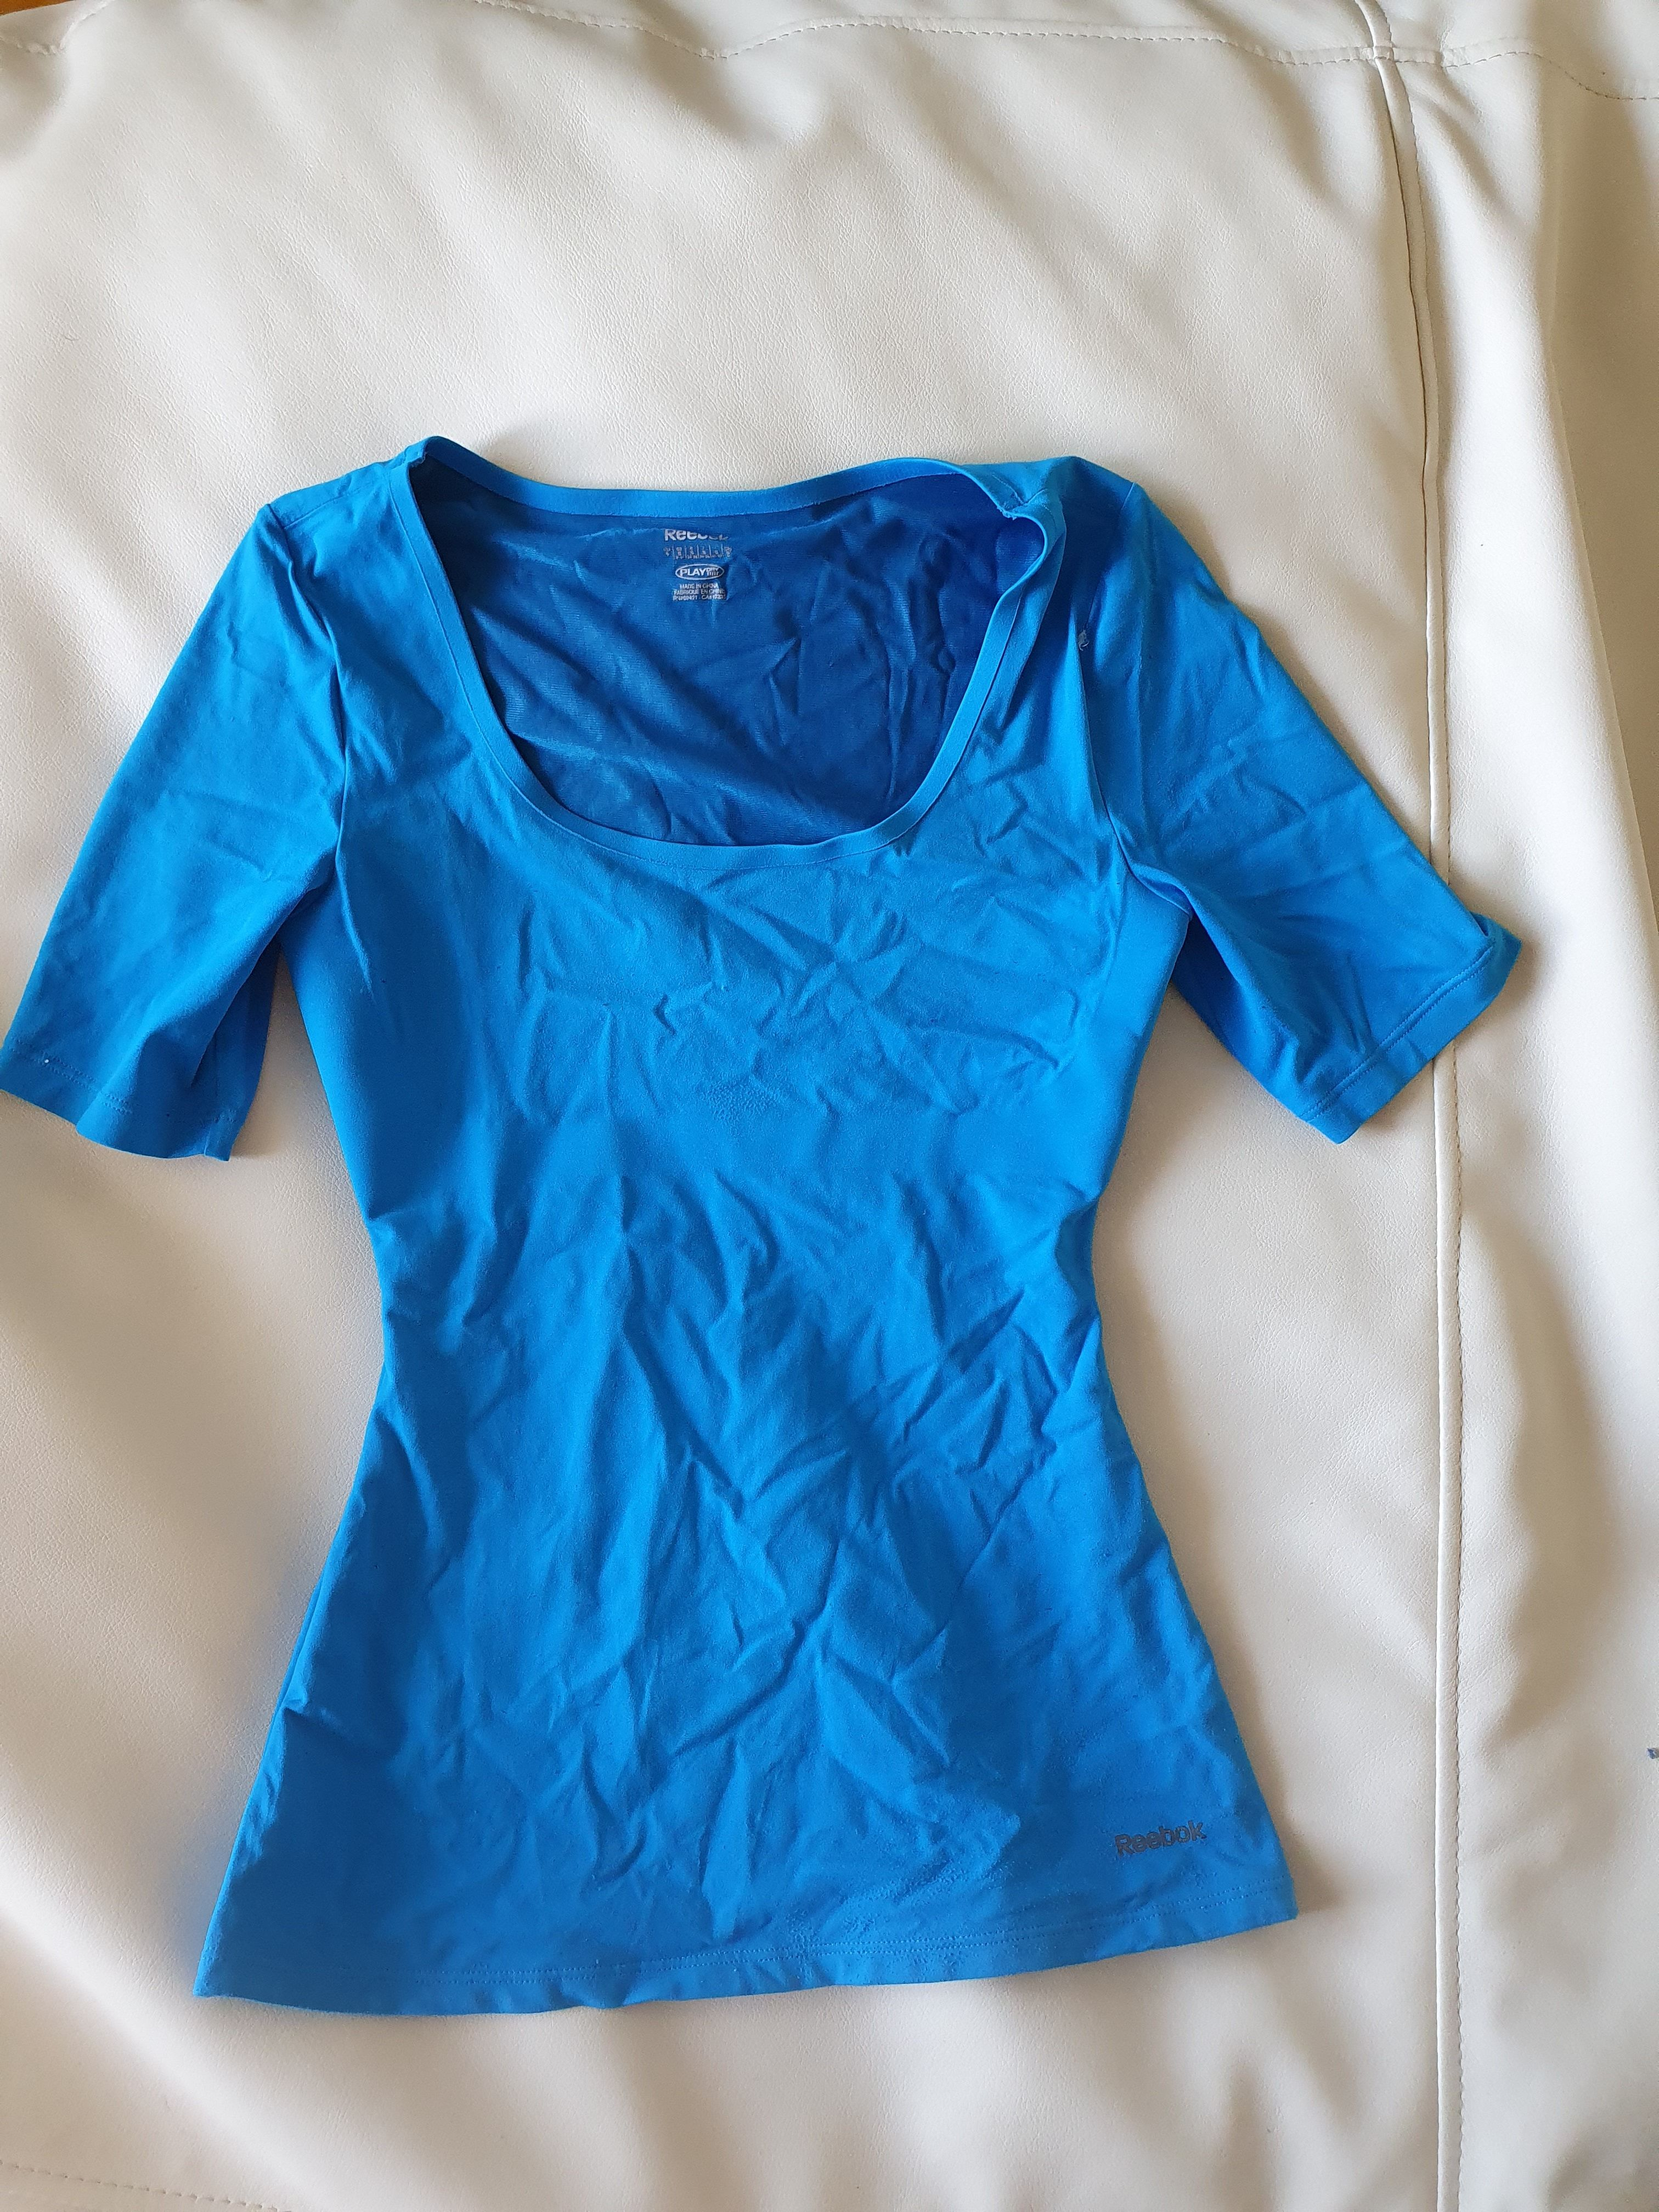clothes: (10, 430, 1537, 2033)
